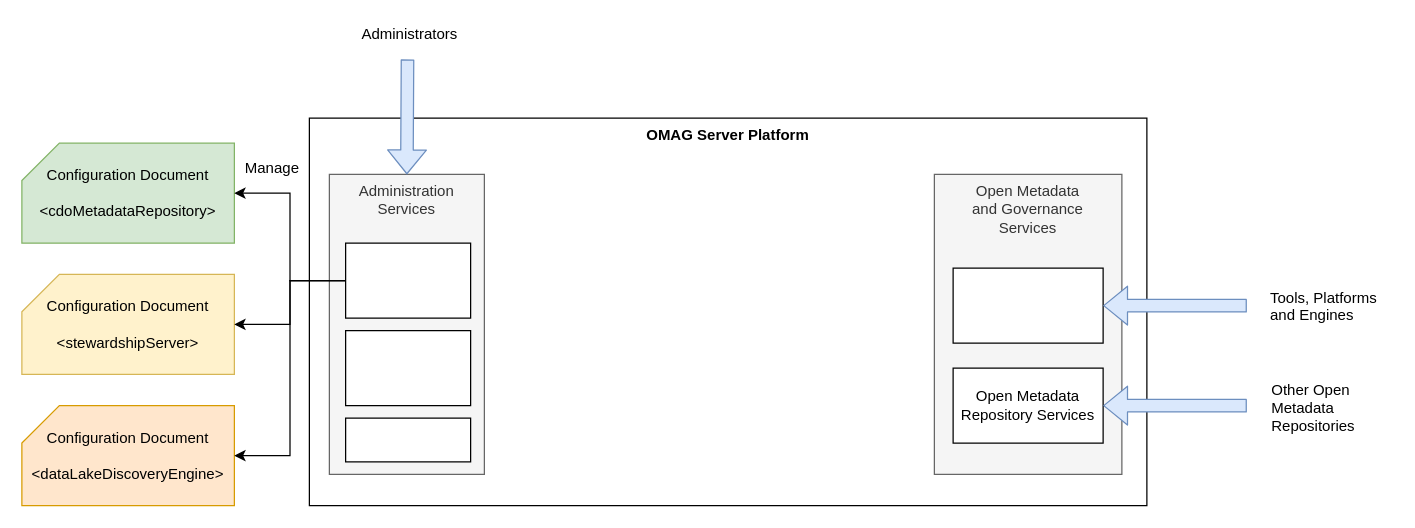
This 1415x528 diagram has some shape labels left out. Each missing label, with the centre of its shape:
Configuration Services: the point at 407,280
Open Metadata Access Services: the point at 1027,305
Operational Services: the point at 407,367
Server Origin Service: the point at 407,439
